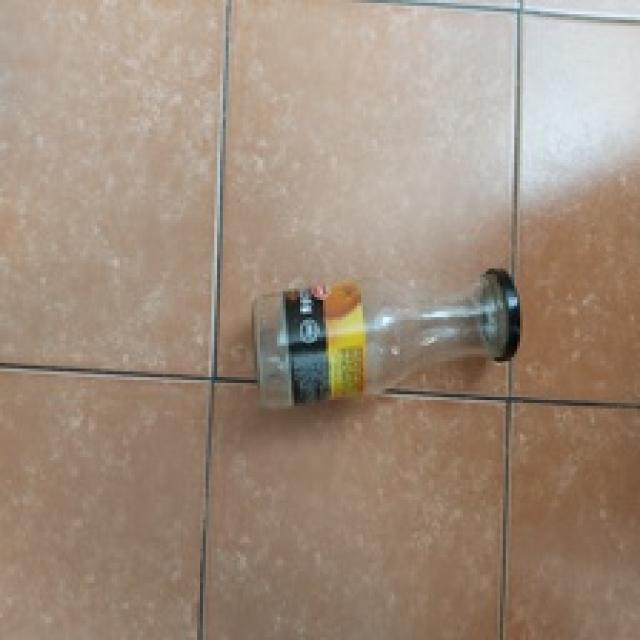BotolKaca: (257, 261, 524, 434)
